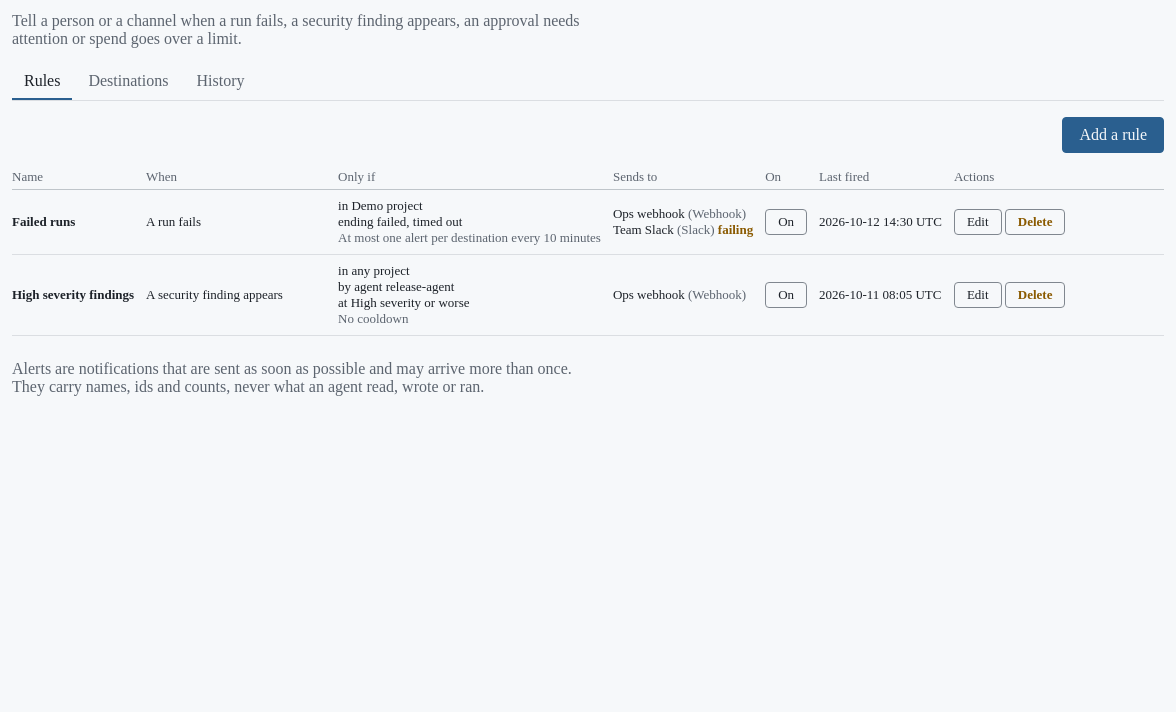
the rule form › approval_requested shows only the filters it needs
The image size is (1176, 712).
Click the button "Add a rule" at (1113, 135), box x1=1062 y1=117 x2=1164 y2=153
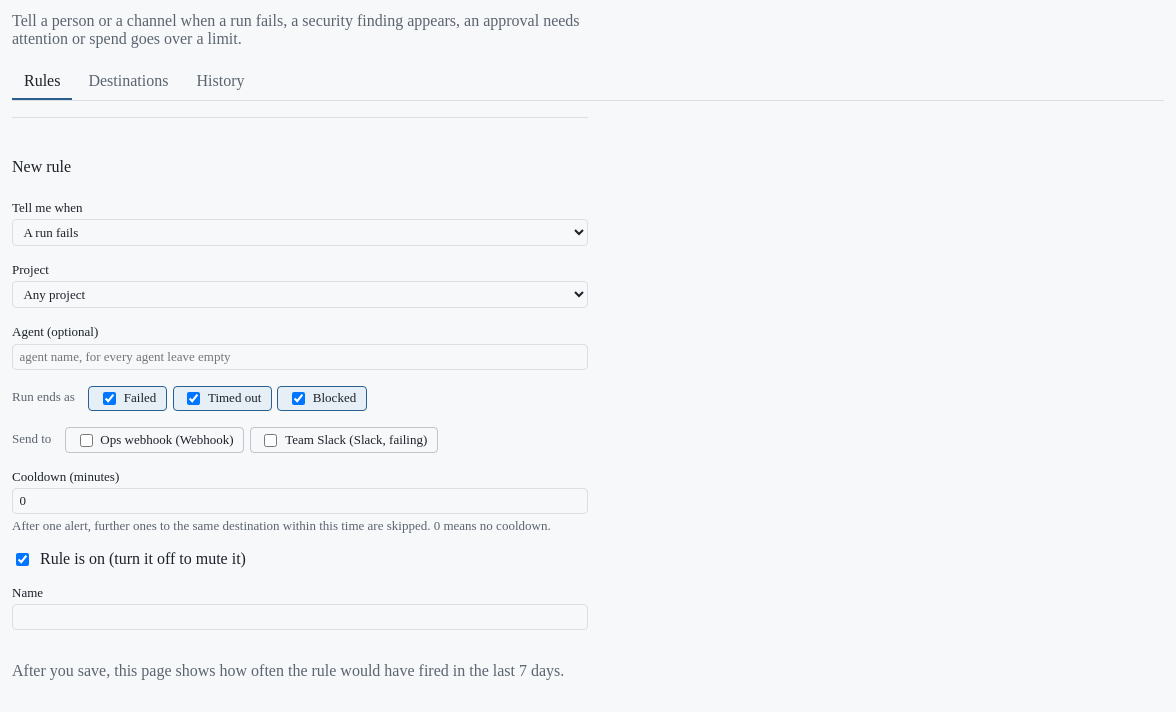
Select "An agent asks for approval" in the dropdown labelled "Tell me when" at (300, 233), box x1=12 y1=219 x2=588 y2=246
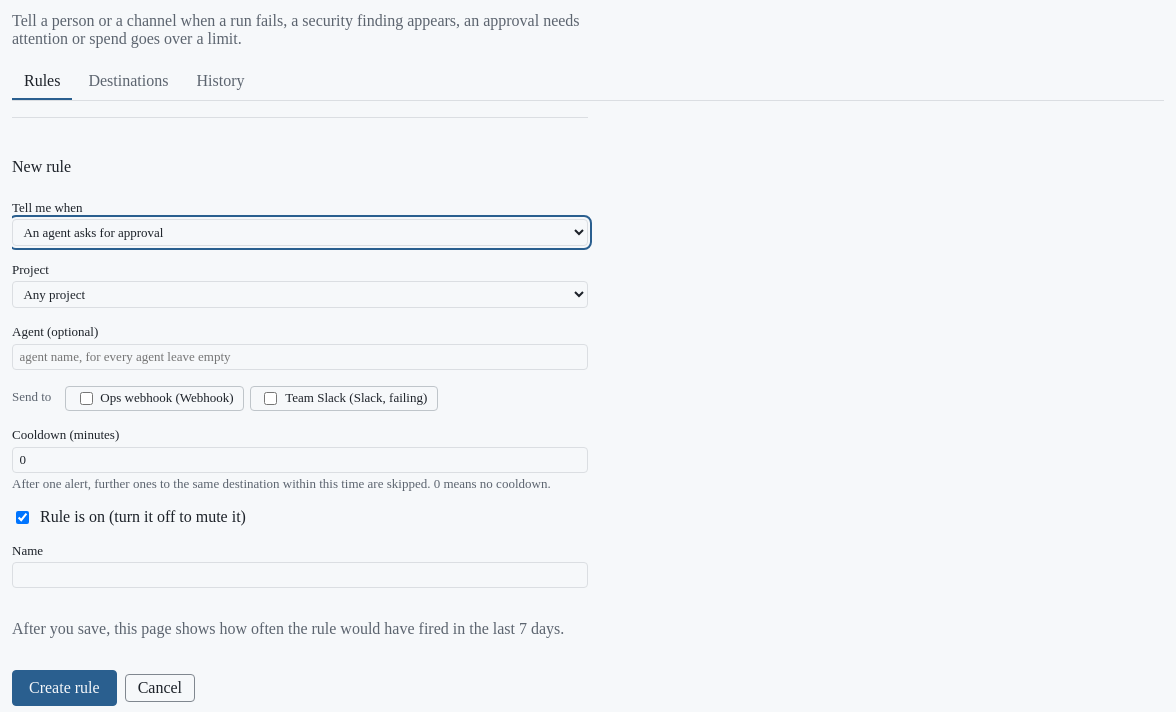
expect the text "Severity or worse" is not shown: met
expect the text "Agent (optional)" is shown: met, box x1=12 y1=324 x2=588 y2=370
expect the text "Run ends as" is gone: met
